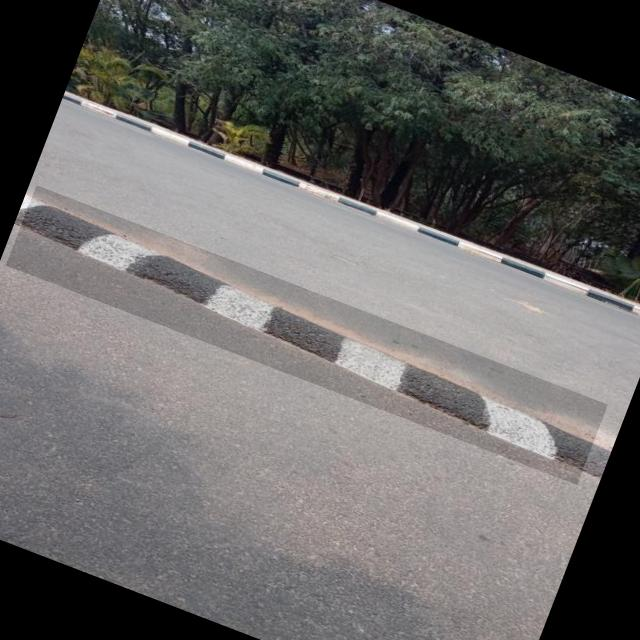bump: (5, 186, 607, 484)
